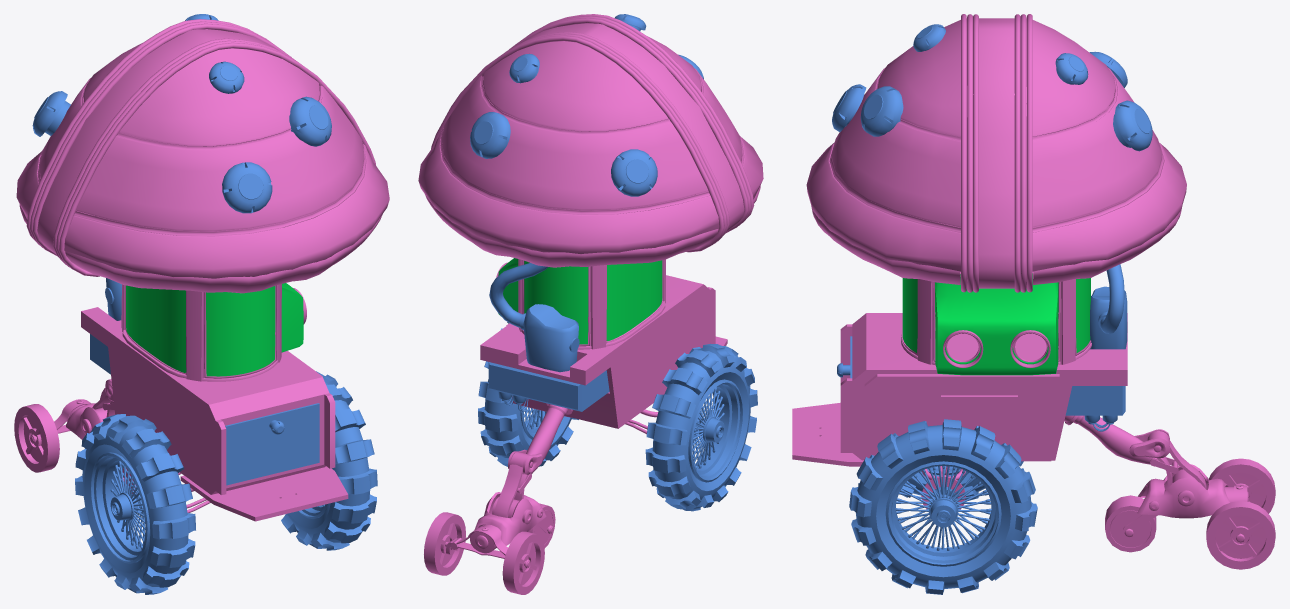
File: mushroom.fbx
3 renders of one model, left to right at view 1: azimuth 30°, elevation 25°; view 2: azimuth 150°, elevation 25°; view 3: azimuth 270°, elevation 25°, orthographic. The views are drawn at different scales.
Visible parts, largest first — view 1: MushroomTop_low, BackWheel_low, Cart_low, MushroomTop_MiddlePart_low, EnvSensor8_low2, SideWindow_low, MetalStand_low, MushroomTop_Tube1_low, MushroomRailedBottom_low, BackWindow_low, WheelPartHoles_low, MushroomTop_Tube3_low (+17 smaller); view 2: MushroomTop_low, BackWheel_low, Cart_low, MushroomTop_MiddlePart_low, MushroomTop_Tube1_low, MushroomRailedBottom_low, BackWindow_low, ForkliftCharger_low, WheelPartHoles_low, SideWindow_low, Humidifier_low, MushroomTop_Tube3_low (+20 smaller); view 3: MushroomTop_low, Cart_low, BackWheel_low, MushroomTop_MiddlePart_low, FrontWindow_low, WheelPartHoles_low, MushroomRailedBottom_low, MushroomTop_Tube2_low, MushroomTop_Tube3_low, MushroomTop_Tube1_low, MetalStand_low, FrontWheelCarcas_low (+23 smaller).
Part boxes in pixels (left/top/right/bottom): MushroomTop_low: left=16, top=43, right=389, bottom=278; BackWheel_low: left=75, top=371, right=377, bottom=594; Cart_low: left=81, top=307, right=335, bottom=495; MushroomTop_MiddlePart_low: left=37, top=29, right=277, bottom=264; EnvSensor8_low2: left=225, top=403, right=319, bottom=485; SideWindow_low: left=206, top=286, right=275, bottom=376; MetalStand_low: left=180, top=466, right=348, bottom=521; MushroomTop_Tube1_low: left=26, top=19, right=375, bottom=276; MushroomRailedBottom_low: left=19, top=204, right=382, bottom=293; BackWindow_low: left=126, top=285, right=186, bottom=372; WheelPartHoles_low: left=91, top=452, right=328, bottom=563; MushroomTop_Tube3_low: left=32, top=23, right=294, bottom=264; MushroomTop_low: left=418, top=36, right=763, bottom=253; BackWheel_low: left=478, top=322, right=757, bottom=511; Cart_low: left=480, top=275, right=715, bottom=428; MushroomTop_MiddlePart_low: left=522, top=23, right=744, bottom=231; MushroomTop_Tube1_low: left=431, top=14, right=754, bottom=252; MushroomRailedBottom_low: left=425, top=185, right=760, bottom=267; BackWindow_low: left=606, top=260, right=662, bottom=341; ForkliftCharger_low: left=488, top=362, right=609, bottom=411; WheelPartHoles_low: left=520, top=379, right=742, bottom=482; SideWindow_low: left=524, top=261, right=588, bottom=344; Humidifier_low: left=520, top=304, right=578, bottom=372; MushroomTop_Tube3_low: left=506, top=18, right=748, bottom=241; MushroomTop_low: left=806, top=20, right=1186, bottom=271; Cart_low: left=840, top=313, right=1127, bottom=461; BackWheel_low: left=849, top=419, right=1037, bottom=594; MushroomTop_MiddlePart_low: left=966, top=18, right=1026, bottom=288; FrontWindow_low: left=935, top=273, right=1058, bottom=375; WheelPartHoles_low: left=885, top=461, right=1001, bottom=566; MushroomRailedBottom_low: left=811, top=206, right=1182, bottom=284; MushroomTop_Tube2_low: left=967, top=14, right=1026, bottom=292; MushroomTop_Tube3_low: left=973, top=14, right=1020, bottom=292; MushroomTop_Tube1_low: left=961, top=14, right=1032, bottom=292; MetalStand_low: left=792, top=402, right=863, bottom=466; FrontWheelCarcas_low: left=1137, top=464, right=1229, bottom=518.
Bounding box in the file's own units: 177 × 275 × 229.
